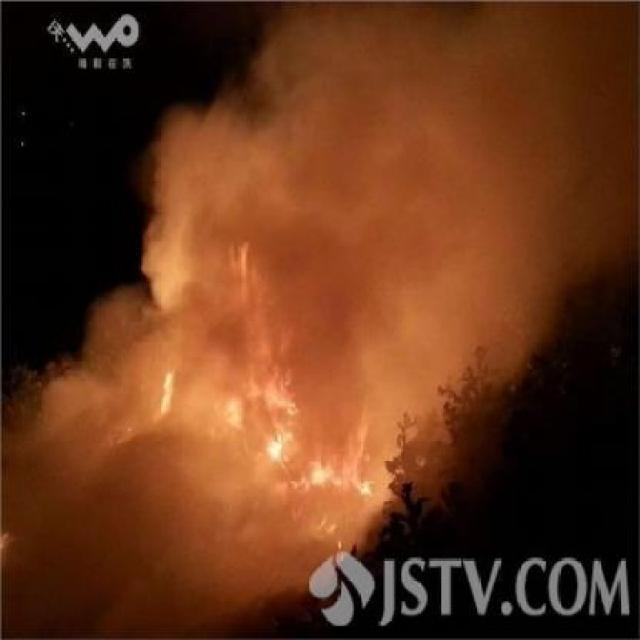Fire: (223, 364, 377, 504), (150, 362, 182, 428)
